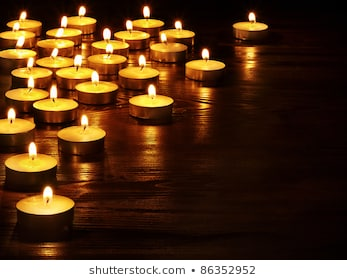Fire: (88, 70, 106, 90), (48, 83, 61, 104), (144, 84, 161, 100), (43, 183, 55, 204), (140, 3, 154, 20), (27, 140, 38, 161), (72, 54, 87, 69), (246, 11, 261, 25), (134, 55, 149, 69), (6, 107, 19, 123), (15, 35, 27, 52), (200, 46, 211, 63), (125, 16, 136, 33), (47, 45, 60, 59), (79, 114, 91, 129), (101, 28, 113, 42), (158, 32, 172, 44), (173, 18, 184, 32), (17, 11, 29, 23), (26, 77, 37, 90), (25, 57, 35, 71), (78, 5, 89, 17), (60, 15, 69, 28)
